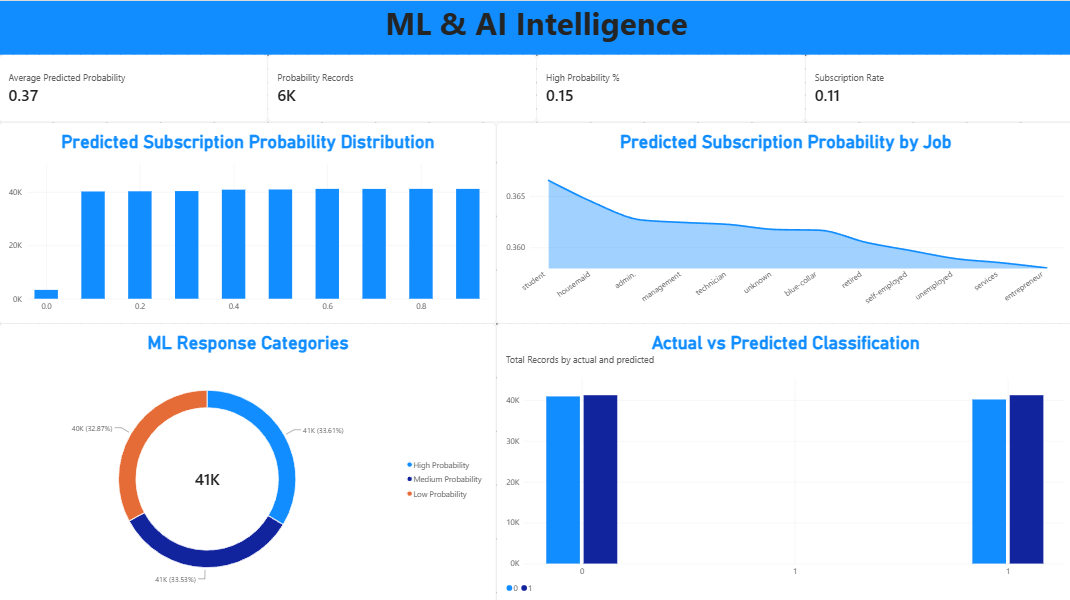

What the dashboard file says about the page in this screenshot:
{"tool":"powerbi","page":{"name":"ML & AI intelligence","canvas":[1920,1080],"ordinal":4},"visuals":[{"type":"textbox","box":[0,0,1920,96],"z":0},{"type":"cardVisual","fields":{"Data":["MLpredictions.Average Predicted Probability"]},"box":[0,96,480,120],"z":1},{"type":"cardVisual","fields":{"Data":["MLpredictions.Probability Records"]},"box":[480,96,480,120],"z":2},{"type":"cardVisual","fields":{"Data":["MLpredictions.High Probability %"]},"box":[960,96,480,120],"z":3},{"type":"cardVisual","fields":{"Data":["bank_marketing.Subscription Rate"]},"box":[1440,96,480,120],"z":4},{"type":"clusteredColumnChart","title":"Predicted Subscription Probability Distribution ","fields":{"Category":["MLpredictions.subscription_probability (bins)"],"Y":["bank_marketing.Total Records"]},"box":[0,216,888,360],"z":5},{"type":"donutChart","title":"ML Response Categories","fields":{"Category":["MLpredictions.response_category"],"Y":["bank_marketing.Total Records"]},"box":[0,576,888,504],"z":6},{"type":"clusteredColumnChart","title":"Actual vs Predicted Classification","fields":{"Y":["bank_marketing.Total Records"],"Category":["MLpredictions.actual"],"Series":["MLpredictions.predicted"]},"box":[888,576,1032,504],"z":7},{"type":"areaChart","title":"Predicted Subscription Probability by Job","fields":{"Category":["bank_marketing.job"],"Y":["MLpredictions.Average Predicted Probability"]},"box":[888,216,1032,360],"z":8}]}

Visuals, with their boxes in screenshot pixels (x1, y1, x2, y2), scaled from the page's 1920x1080 canvas onto the 1070x600 screenshot:
textbox: <box>0,0,1069,53</box>
cardVisual - MLpredictions.Average Predicted Probability: <box>0,53,268,120</box>
cardVisual - MLpredictions.Probability Records: <box>268,53,535,120</box>
cardVisual - MLpredictions.High Probability %: <box>535,53,802,120</box>
cardVisual - bank_marketing.Subscription Rate: <box>802,53,1069,120</box>
"Predicted Subscription Probability Distribution " clusteredColumnChart: <box>0,120,495,320</box>
"ML Response Categories" donutChart: <box>0,320,495,599</box>
"Actual vs Predicted Classification" clusteredColumnChart: <box>495,320,1069,599</box>
"Predicted Subscription Probability by Job" areaChart: <box>495,120,1069,320</box>
